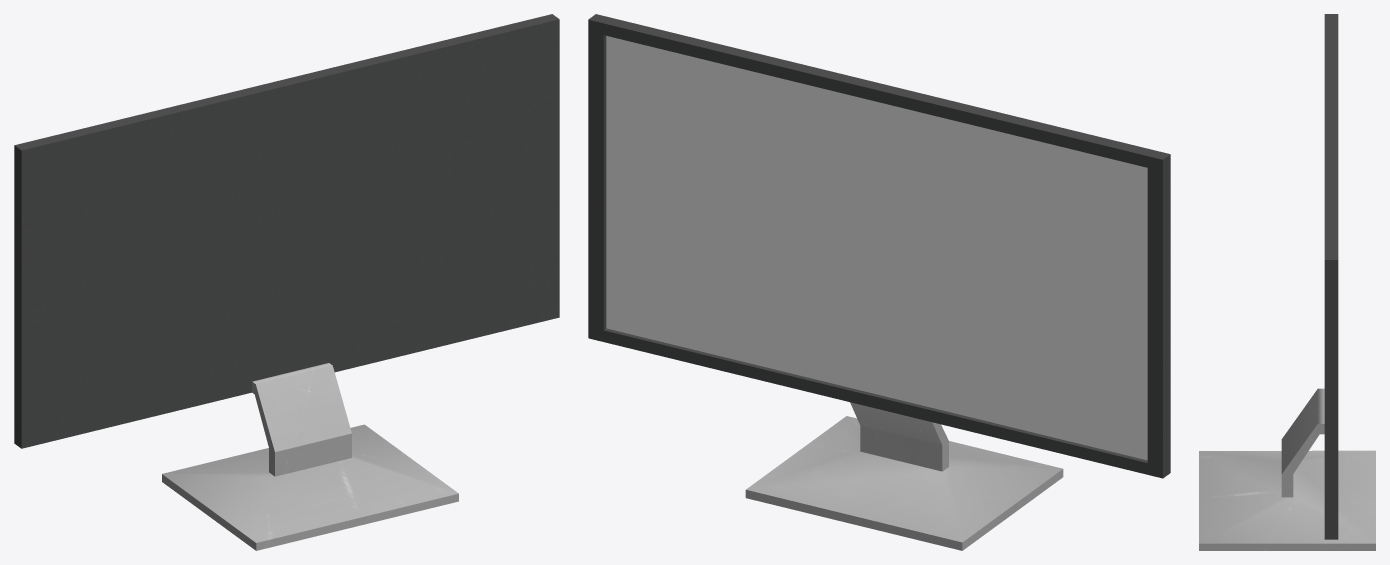
The model's file is Monitor.fbx.
3 views of the same model, side by side, from view 1: azimuth 30°, elevation 25°; view 2: azimuth 150°, elevation 25°; view 3: azimuth 270°, elevation 25° (orthographic). The views are drawn at different scales.
Parts seen in each view (by area): view 1: Monitor; view 2: Monitor; view 3: Monitor.
Boxes of the visible parts, x1=… form: Monitor: x1=14, y1=14, x2=559, y2=550; Monitor: x1=588, y1=14, x2=1170, y2=550; Monitor: x1=1199, y1=14, x2=1375, y2=550.
Size of the model in its own units: 0.7722 by 0.538 by 0.2347.
